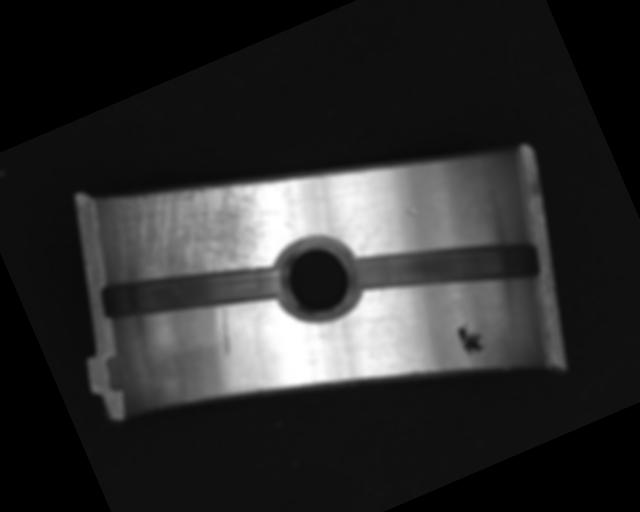blot: (453, 316, 493, 363)
bruise: (403, 205, 419, 218)
gap: (343, 191, 546, 346), (94, 220, 288, 363)
hole: (262, 224, 371, 331)
nick: (204, 303, 244, 359), (325, 207, 365, 243)
scratch: (91, 137, 295, 316)
